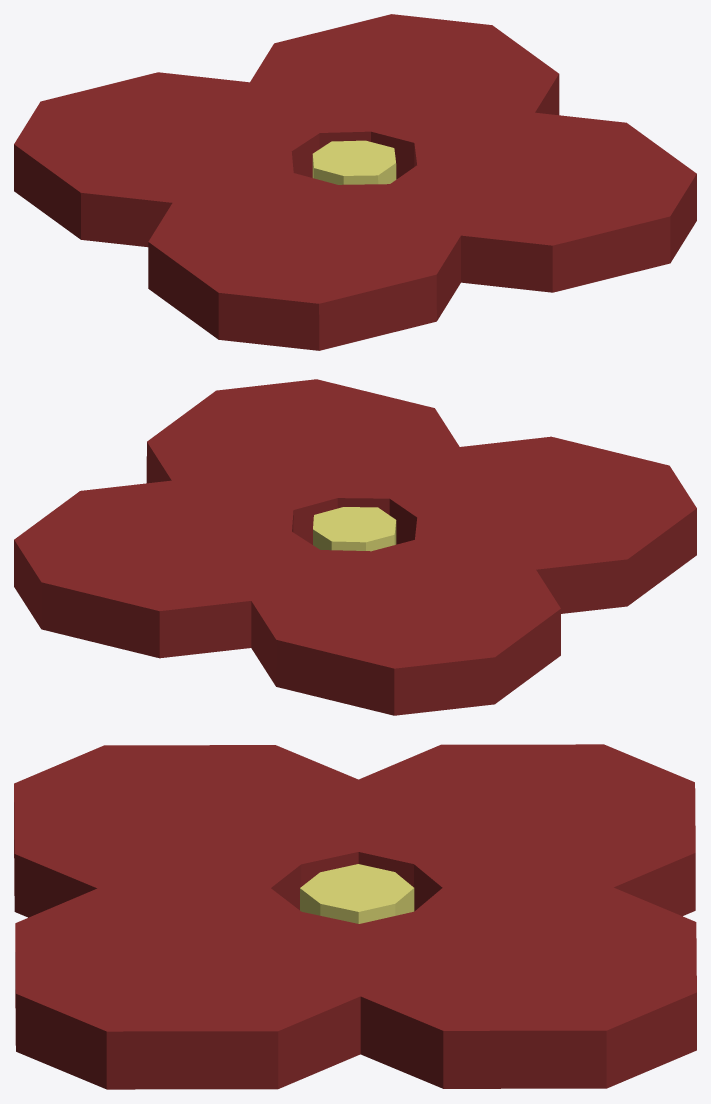
Rendered from Flower particle.fbx.
The picture shows the model from 3 angles, top to bottom: view 1: azimuth 30°, elevation 25°; view 2: azimuth 150°, elevation 25°; view 3: azimuth 270°, elevation 25°; orthographic projection. The views are drawn at different scales.
Visible parts, largest first — view 1: Fairy.001; view 2: Fairy.001; view 3: Fairy.001.
Boxes of the visible parts, x1,y1,x2,y2 form: Fairy.001: (14, 14, 696, 350); Fairy.001: (14, 379, 696, 715); Fairy.001: (14, 744, 696, 1089).
Size of the model in its own units: 5.69 by 0.5492 by 5.69.
